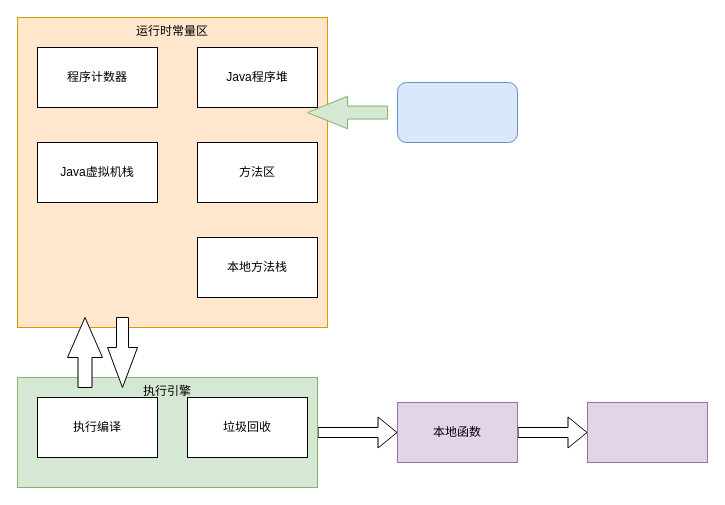
The diagram is 725 pixels wide and 505 high, and some of its shapes have lost their labels. Each missing label, with the centre of its shape:
本地接口: [647,432]
类加载器子系统: [457,112]
